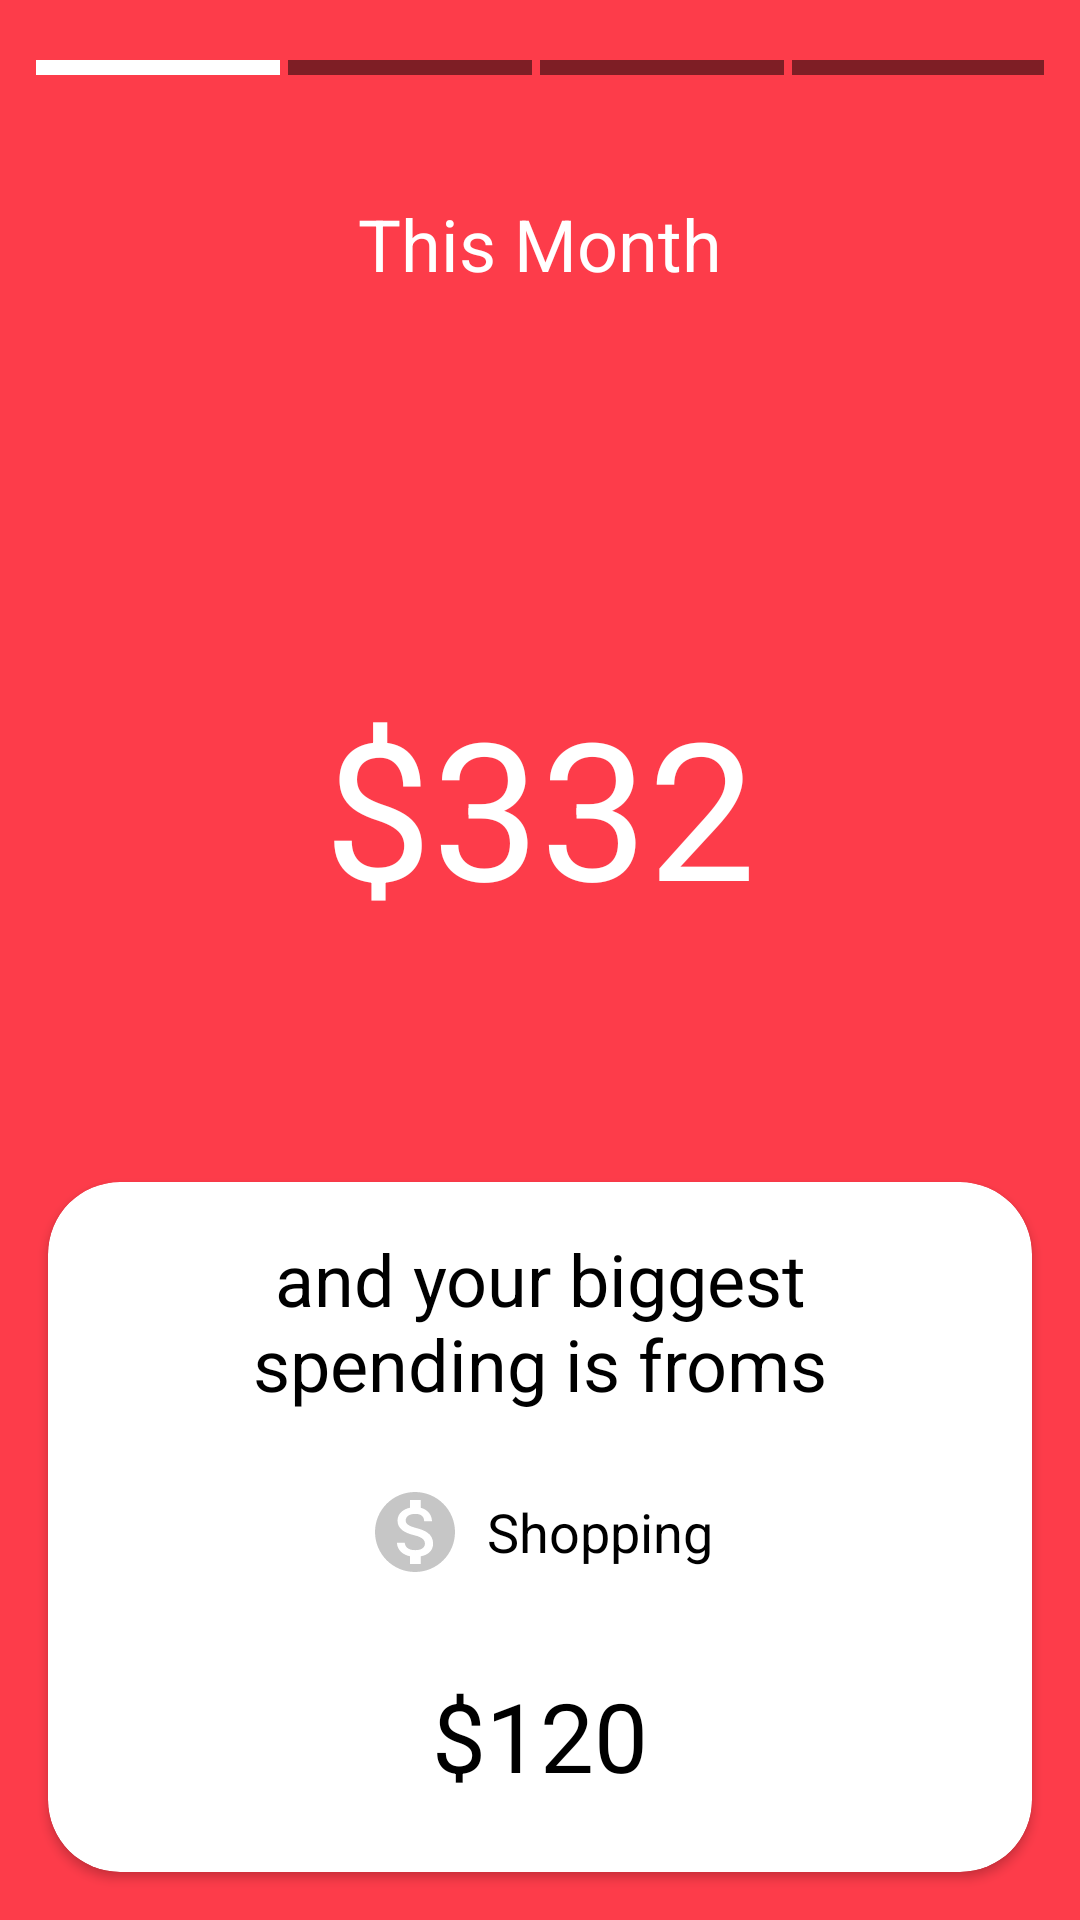

Locate icon controls on the screen. Image size 1080w x 1920h, boxes as (x1, y1, x2, y2).
budget: (375, 1492, 455, 1572)
